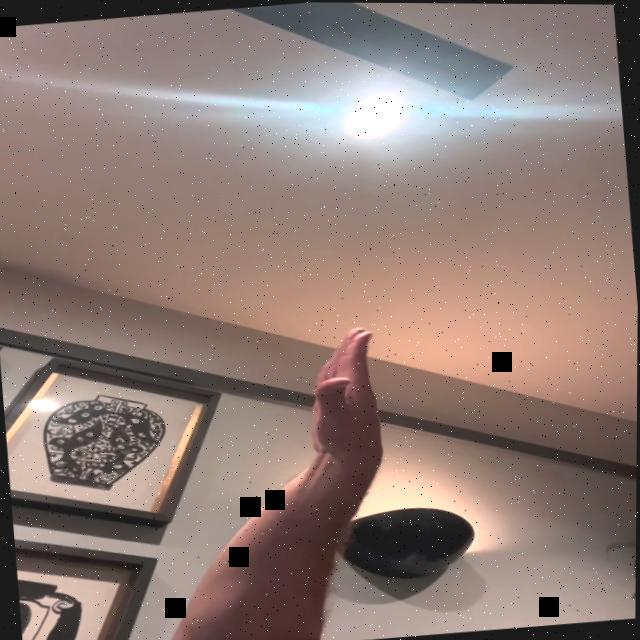Paper: (296, 321, 397, 460)
